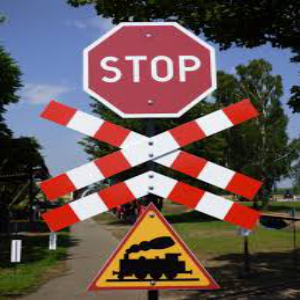STOP_SIGN: (82, 21, 217, 117)
